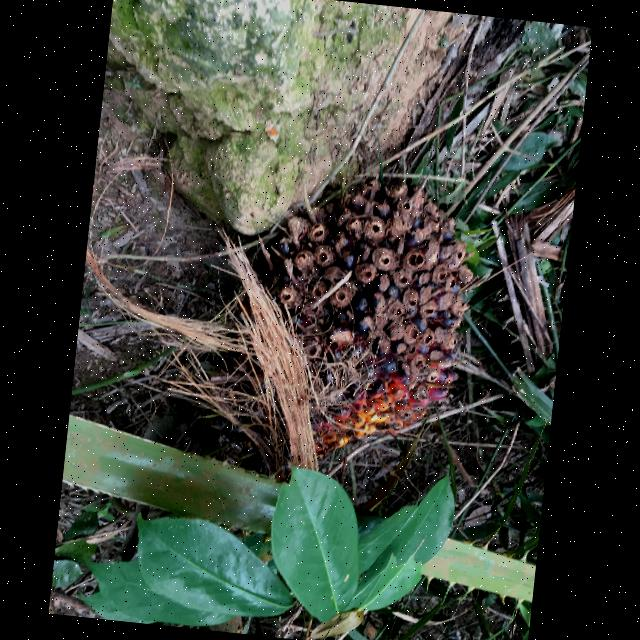Damaged: (269, 185, 479, 458)
